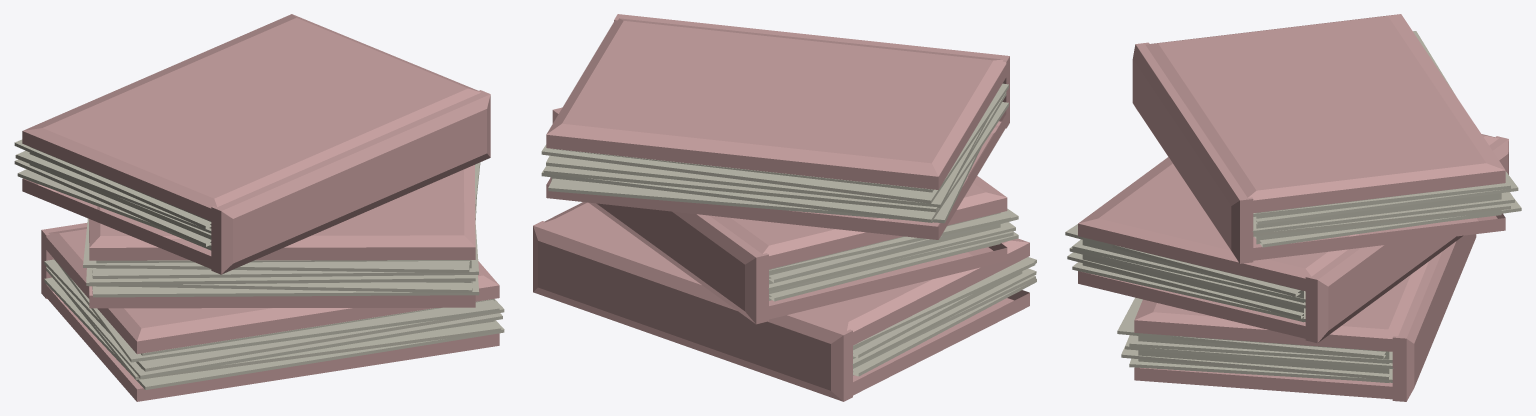
The model's file is BookStackBasic.glb.
The picture shows the model from 3 angles, left to right: view 1: azimuth 30°, elevation 25°; view 2: azimuth 150°, elevation 25°; view 3: azimuth 270°, elevation 25°; orthographic projection. The views are drawn at different scales.
Parts seen in each view (by area): view 1: coverR.001, coverM.001, coverL, BookBasic:coverL, BookBasic:coverR, coverR, BookBasic:page1, page1, BookBasic:page3, BookBasic:page5, BookBasic:page2, coverL.001 (+14 smaller); view 2: coverR.001, BookBasic:coverM, coverM, BookBasic:coverL, coverL, coverL.001, page5.001, coverR, page2.001, page4.001, BookBasic:coverR, page1.001 (+14 smaller); view 3: coverR.001, coverL, coverM.001, coverM, BookBasic:coverL, BookBasic:coverM, BookBasic:coverR, coverL.001, coverR, BookBasic:pages, pages.001, pages (+15 smaller).
Part boxes in pixels (bbox=[...]): coverR.001: bbox=[22, 14, 480, 224]; coverM.001: bbox=[211, 90, 490, 274]; coverL: bbox=[89, 165, 475, 260]; BookBasic:coverL: bbox=[42, 227, 499, 354]; BookBasic:coverR: bbox=[42, 282, 499, 401]; coverR: bbox=[89, 286, 475, 308]; BookBasic:page1: bbox=[55, 260, 499, 362]; page1: bbox=[83, 162, 480, 272]; BookBasic:page3: bbox=[46, 267, 502, 378]; BookBasic:page5: bbox=[44, 277, 504, 389]; BookBasic:page2: bbox=[44, 259, 504, 371]; coverL.001: bbox=[22, 178, 218, 271]; coverR.001: bbox=[546, 18, 1009, 189]; BookBasic:coverM: bbox=[533, 221, 852, 401]; coverM: bbox=[552, 107, 768, 324]; BookBasic:coverL: bbox=[543, 202, 1029, 348]; coverL: bbox=[710, 176, 1007, 271]; coverL.001: bbox=[546, 109, 1009, 239]; page5.001: bbox=[541, 83, 1008, 203]; coverR: bbox=[759, 243, 1007, 321]; page2.001: bbox=[541, 102, 1008, 222]; page4.001: bbox=[546, 118, 988, 207]; BookBasic:coverR: bbox=[846, 290, 1029, 398]; page1.001: bbox=[548, 147, 981, 223]; coverR.001: bbox=[1145, 14, 1505, 212]; coverL: bbox=[1078, 134, 1498, 293]; coverM.001: bbox=[1132, 42, 1253, 263]; coverM: bbox=[1305, 136, 1508, 343]; BookBasic:coverL: bbox=[1134, 261, 1428, 352]; BookBasic:coverM: bbox=[1392, 234, 1476, 401]; BookBasic:coverR: bbox=[1134, 367, 1402, 399]; coverL.001: bbox=[1245, 213, 1505, 260]; coverR: bbox=[1078, 271, 1314, 340]; BookBasic:pages: bbox=[1138, 333, 1389, 382]; pages.001: bbox=[1256, 184, 1501, 244]; pages: bbox=[1082, 237, 1303, 322].
Size of the model in its own units: 13.66 by 6.59 by 13.05.
